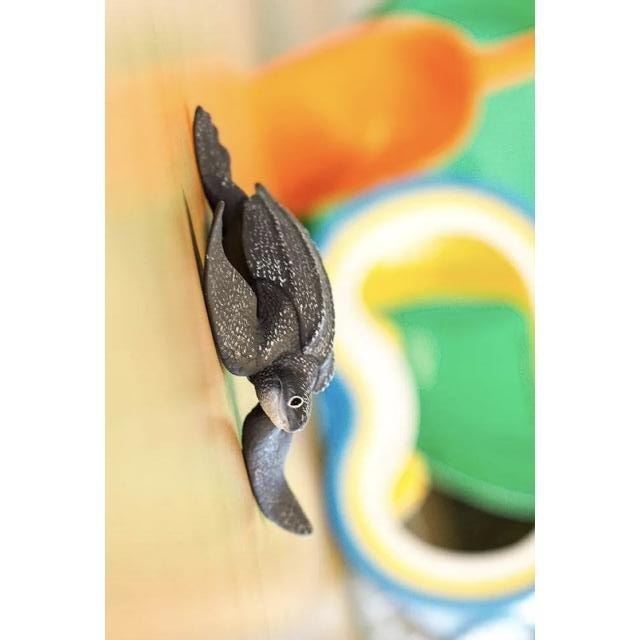turtle: (192, 107, 337, 535)
